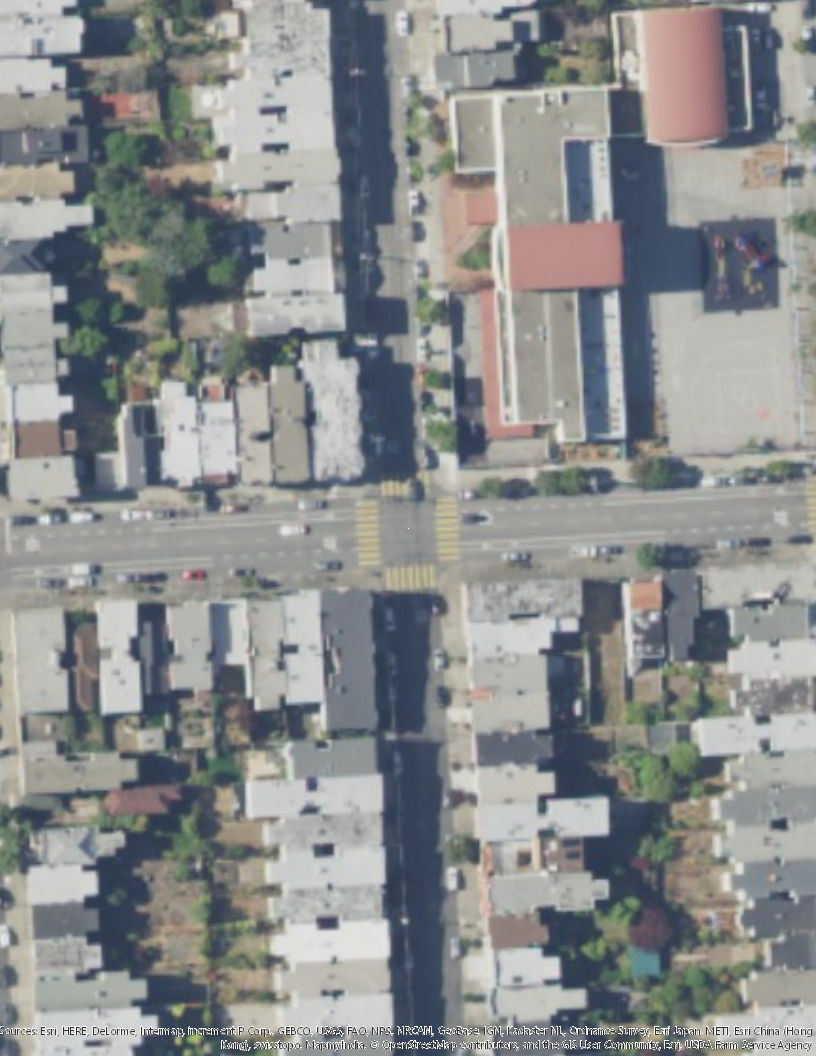zebracross: (352, 501, 383, 567), (433, 498, 463, 561), (378, 564, 438, 593), (378, 471, 430, 502)
